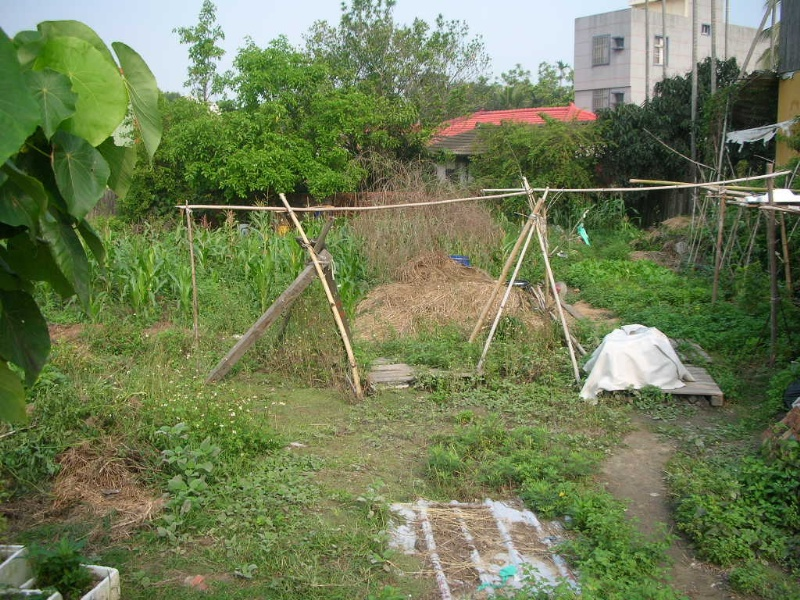plastic_bag: (580, 327, 694, 406)
styrofoam: (18, 563, 122, 600)
